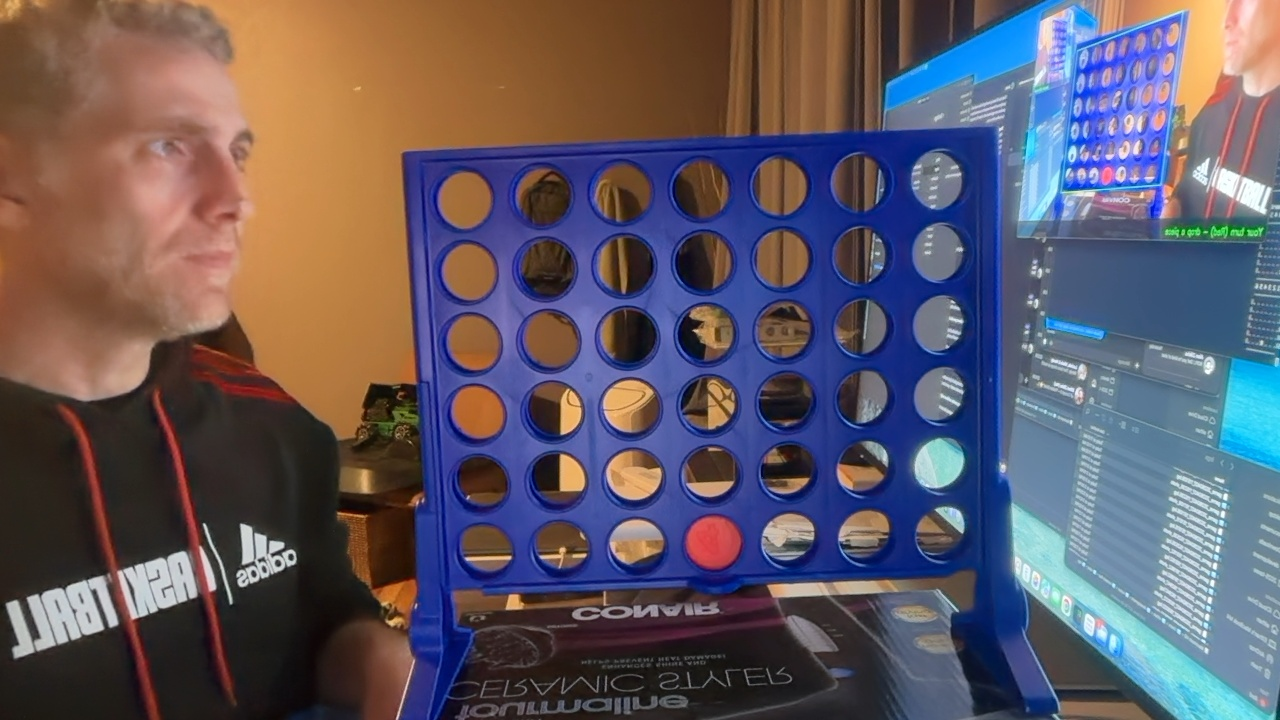red piece: (685, 515, 742, 571)
